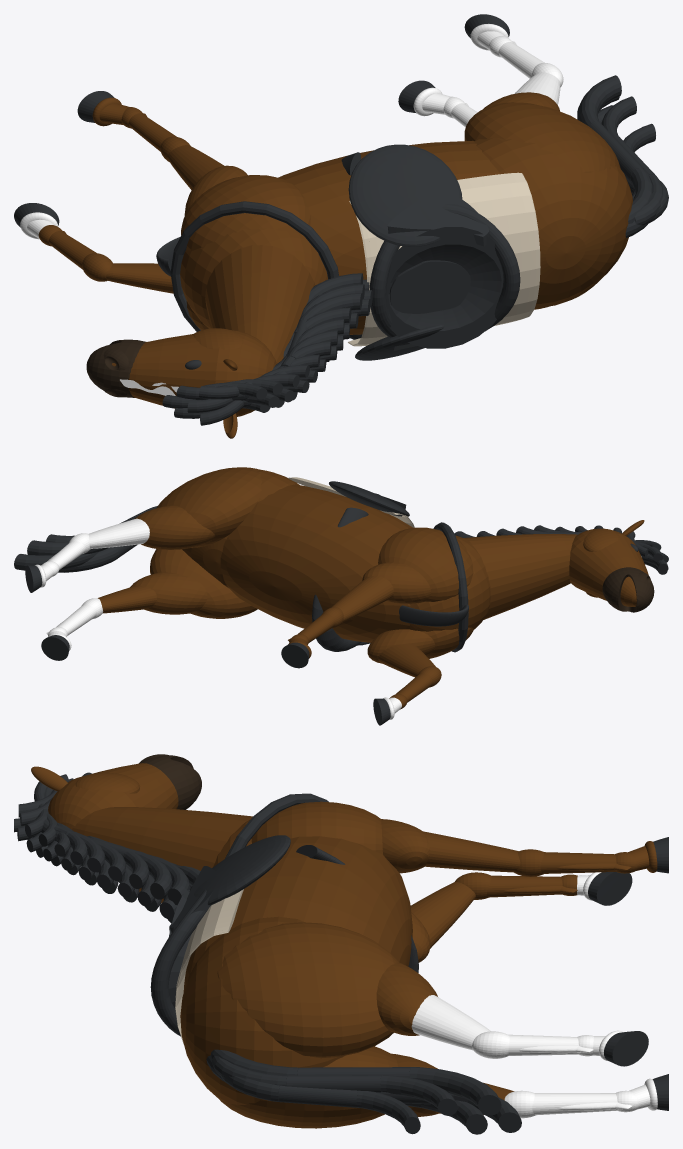
File: tinker.obj
The picture shows the model from 3 angles, top to bottom: view 1: azimuth 30°, elevation 25°; view 2: azimuth 150°, elevation 25°; view 3: azimuth 270°, elevation 25°; orthographic projection. The views are drawn at different scales.
Visible parts, largest first — view 1: group_0_6306067, group_0_2829873, group_0_13945011, group_0_16777215, group_0_3023640; view 2: group_0_6306067, group_0_2829873, group_0_16777215, group_0_3023640, group_0_13945011; view 3: group_0_6306067, group_0_2829873, group_0_16777215, group_0_13945011, group_0_3023640.
Boxes of the visible parts, left/top/right/bottom form: group_0_6306067: left=38, top=92, right=632, bottom=438; group_0_2829873: left=14, top=14, right=668, bottom=425; group_0_13945011: left=348, top=172, right=540, bottom=346; group_0_16777215: left=20, top=23, right=563, bottom=395; group_0_3023640: left=86, top=339, right=145, bottom=397; group_0_6306067: left=98, top=467, right=648, bottom=709; group_0_2829873: left=14, top=481, right=668, bottom=725; group_0_16777215: left=35, top=518, right=646, bottom=719; group_0_3023640: left=602, top=567, right=654, bottom=612; group_0_13945011: left=288, top=477, right=414, bottom=527; group_0_6306067: left=31, top=763, right=657, bottom=1128; group_0_2829873: left=14, top=772, right=668, bottom=1134; group_0_16777215: left=411, top=872, right=657, bottom=1118; group_0_13945011: left=175, top=889, right=243, bottom=1044; group_0_3023640: left=139, top=754, right=201, bottom=809.
Size of the model in its own units: 124 by 36 by 97.
